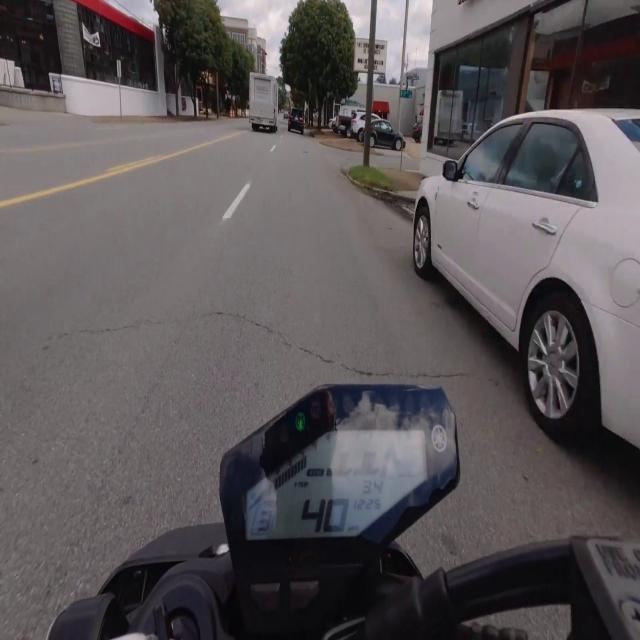car: (413, 110, 639, 446), (370, 120, 405, 151), (352, 111, 365, 142), (288, 109, 304, 134), (283, 111, 288, 119)
motorcycle: (48, 386, 639, 639)
